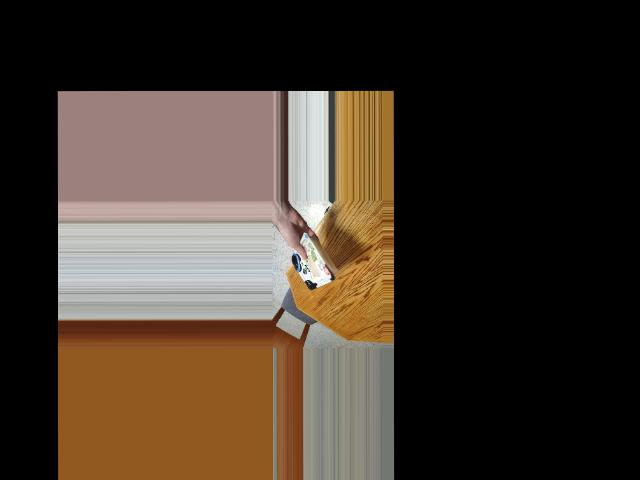cheese: (290, 236, 346, 293)
